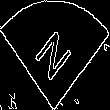N_SW: (31, 23, 79, 87)
